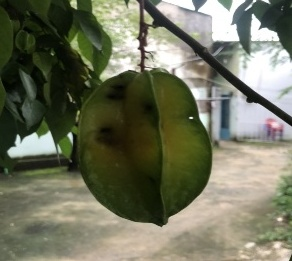Khe: (71, 71, 220, 228)
